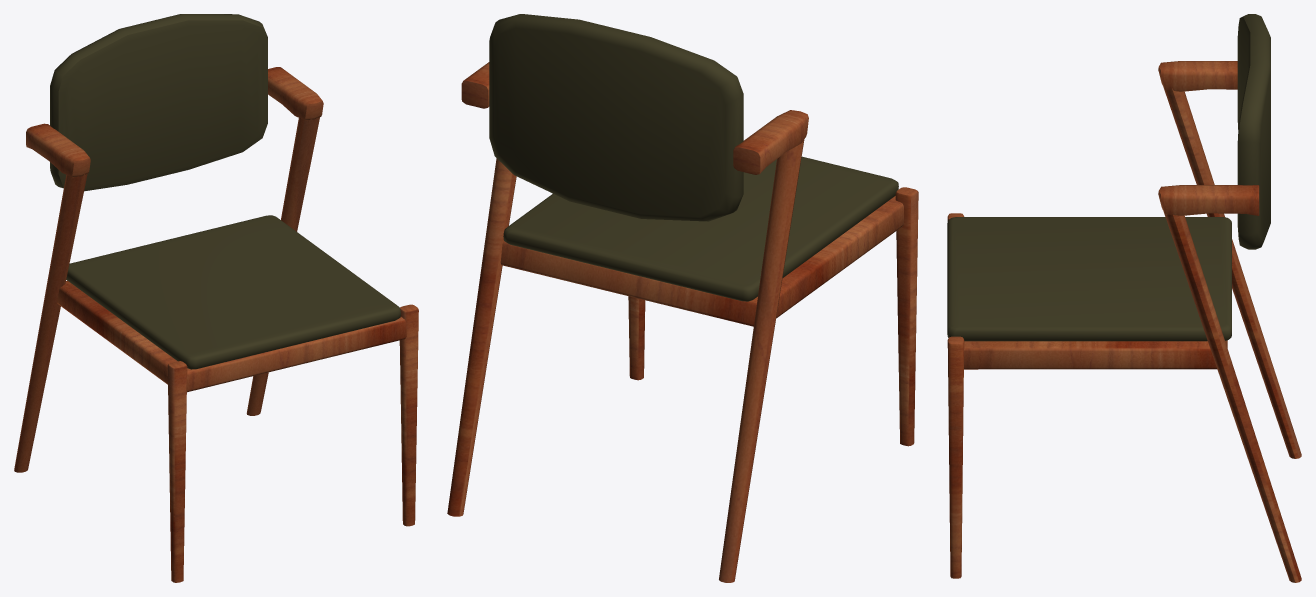
Rendered from LC_3056_chair_I_LOD2.FBX.
3 views of the same model, side by side, from view 1: azimuth 30°, elevation 25°; view 2: azimuth 150°, elevation 25°; view 3: azimuth 270°, elevation 25° (orthographic). The views are drawn at different scales.
Parts seen in each view (by area): view 1: LC_3056_chair_I_LOD2; view 2: LC_3056_chair_I_LOD2; view 3: LC_3056_chair_I_LOD2.
Boxes of the visible parts, left/top/right/bottom form: LC_3056_chair_I_LOD2: left=14, top=14, right=418, bottom=582; LC_3056_chair_I_LOD2: left=447, top=14, right=918, bottom=582; LC_3056_chair_I_LOD2: left=947, top=14, right=1301, bottom=582.
Bounding box in the file's own units: 63.63 × 102 × 69.75.
1 material, 1 textured.
